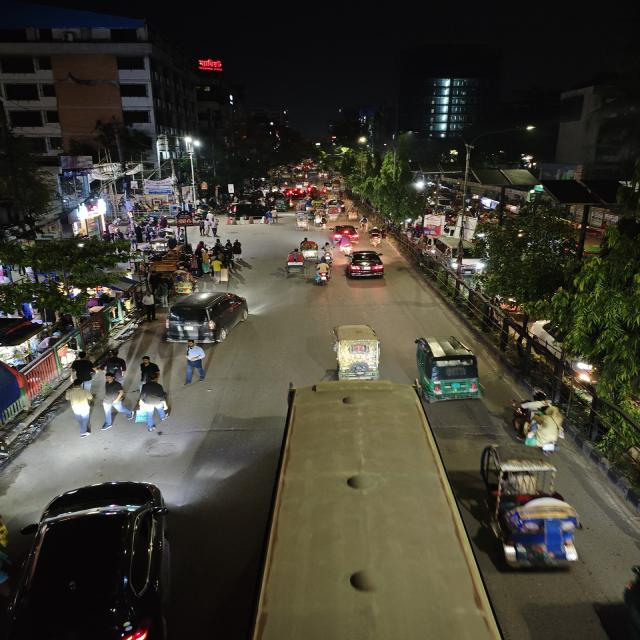bicycle: (358, 218, 369, 235)
bus: (256, 385, 479, 640)
car: (18, 477, 178, 640), (342, 249, 389, 281), (446, 244, 489, 275), (330, 223, 361, 244)
cng: (408, 332, 489, 406), (164, 290, 252, 348)
motorcycle: (507, 391, 568, 457), (312, 262, 332, 286), (366, 228, 386, 248), (318, 216, 327, 232)
pedestrian: (134, 372, 172, 433), (63, 382, 96, 438), (96, 370, 127, 428), (180, 339, 208, 387), (67, 352, 96, 391), (101, 349, 128, 384), (138, 354, 162, 386), (140, 290, 160, 322), (209, 257, 229, 285), (194, 239, 208, 270), (230, 239, 245, 261), (210, 216, 221, 238), (264, 209, 278, 225)
rickshaw: (472, 440, 589, 574), (322, 322, 387, 382), (167, 266, 200, 296), (283, 248, 306, 277), (298, 236, 318, 258), (293, 209, 311, 231), (326, 205, 340, 224)
